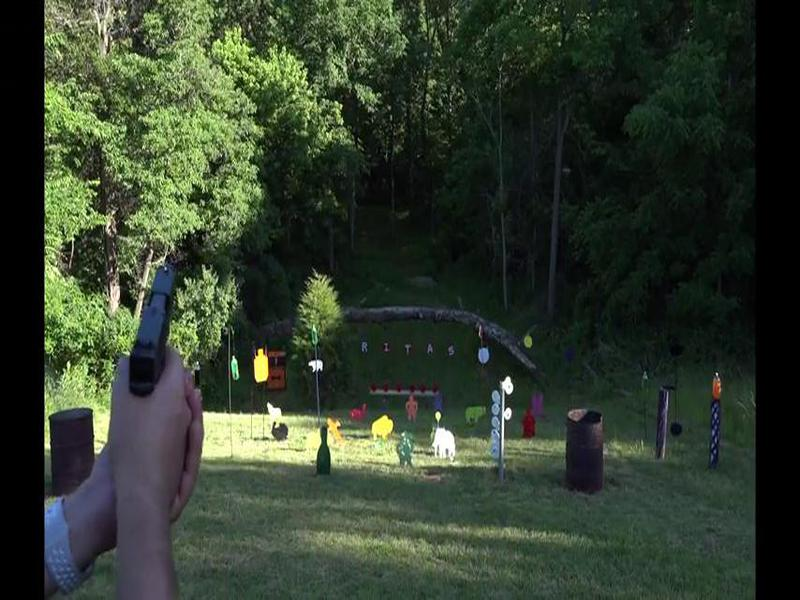Pistola: (106, 254, 185, 402)
